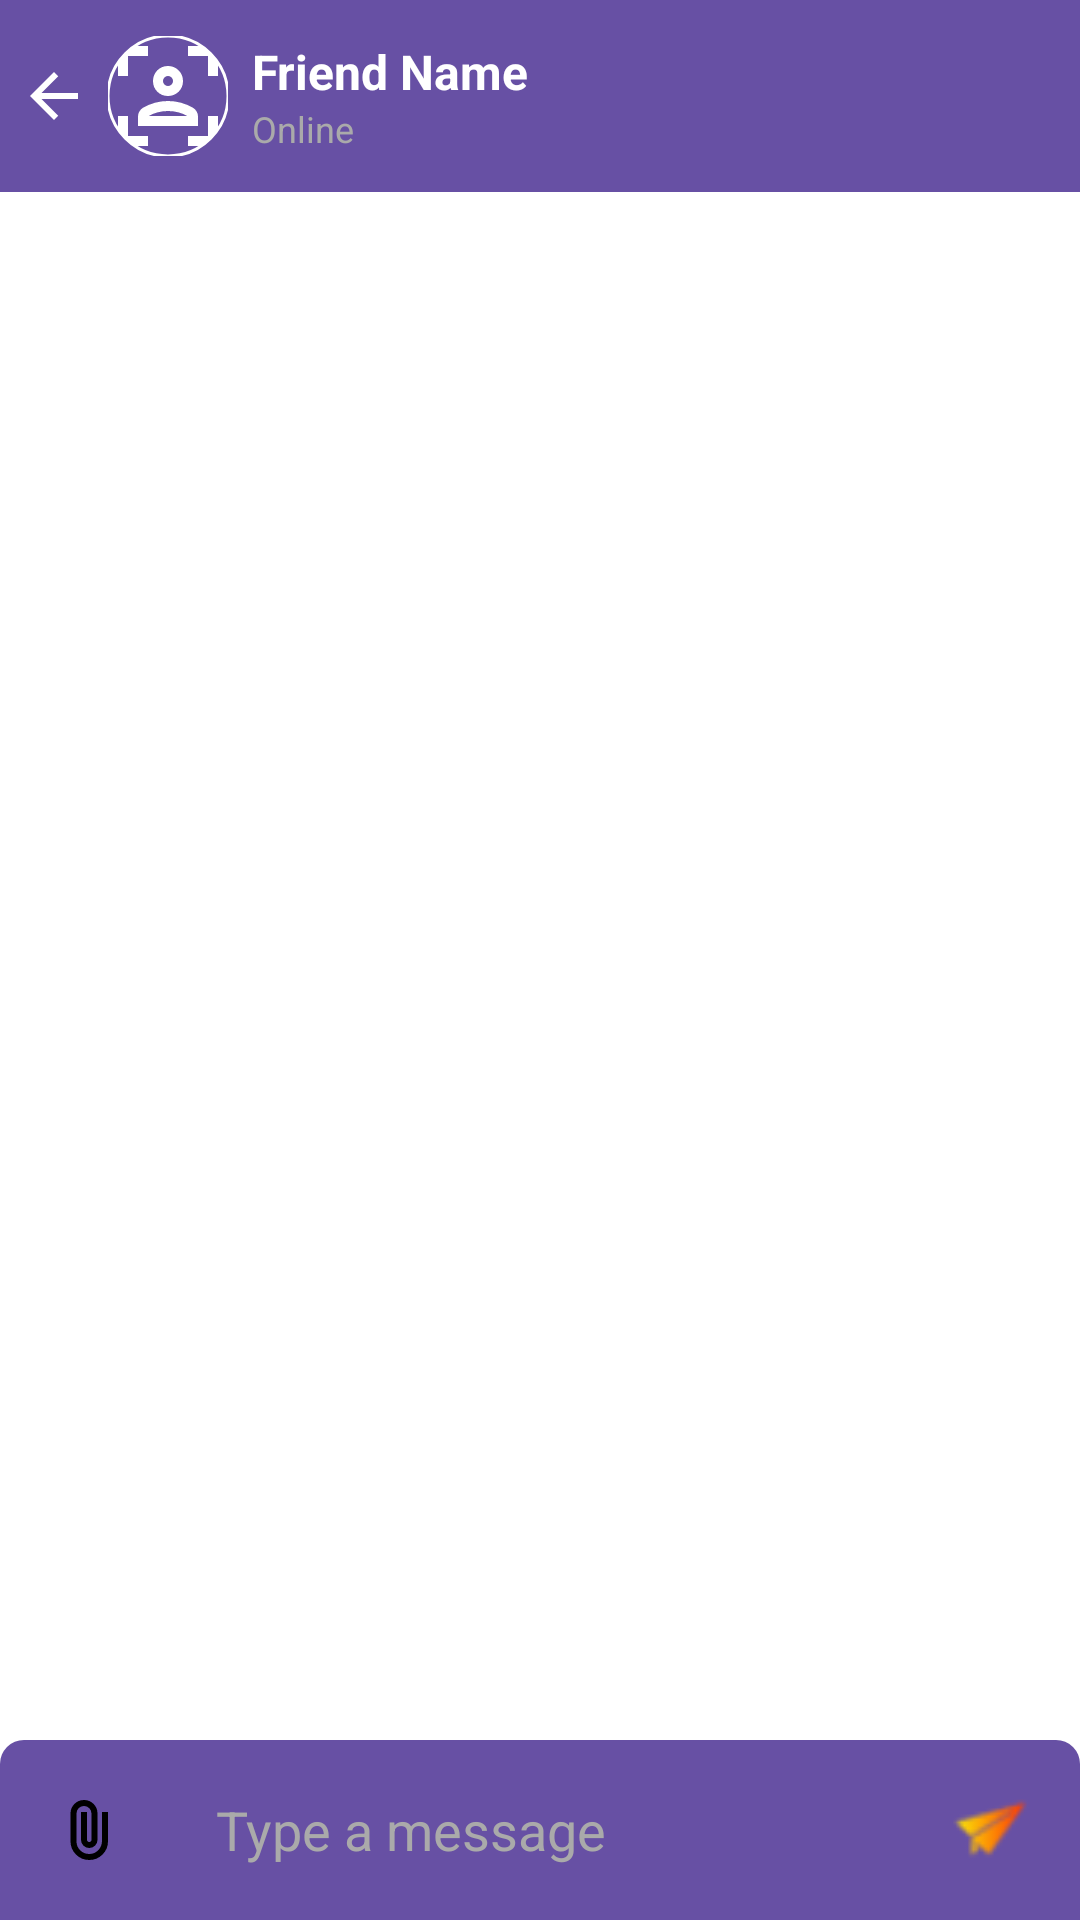

Icon bounding boxes for this 1080 × 1920 phone screenshot, format (x1, y1, x2, y2):
Attach File: (70, 1800, 108, 1860)
Back: (30, 72, 78, 120)
profile photo: (108, 36, 228, 156)
Send: (956, 1801, 1026, 1855)
